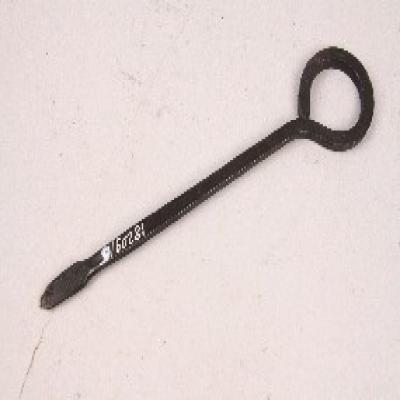technique: (39, 46, 375, 312)
